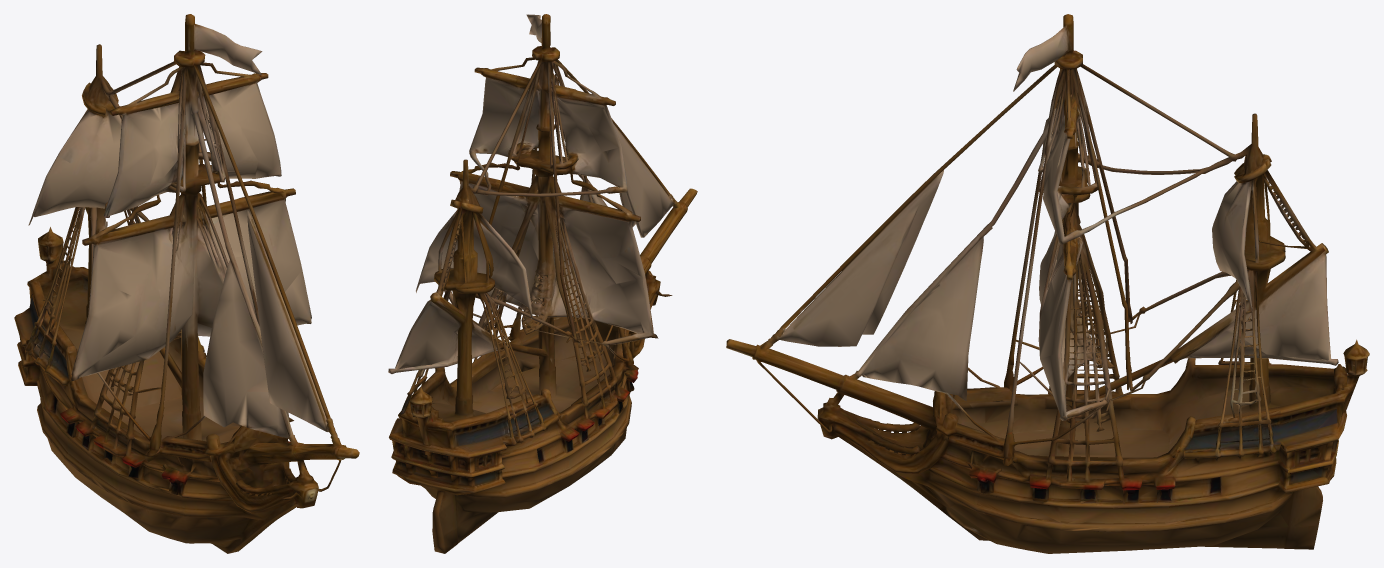
The model's file is player.glb.
The picture shows the model from 3 angles, left to right: view 1: azimuth 30°, elevation 25°; view 2: azimuth 150°, elevation 25°; view 3: azimuth 270°, elevation 25°; orthographic projection. The views are drawn at different scales.
Visible parts, largest first — view 1: ship; view 2: ship; view 3: ship.
Part boxes in pixels (box(x1,y1,x2,y2)): ship: box(14, 14, 359, 553); ship: box(388, 14, 697, 553); ship: box(726, 14, 1369, 553).
Bounding box in the file's own units: 3.14 × 6.39 × 7.
Materials: 1 (1 with a texture image).
